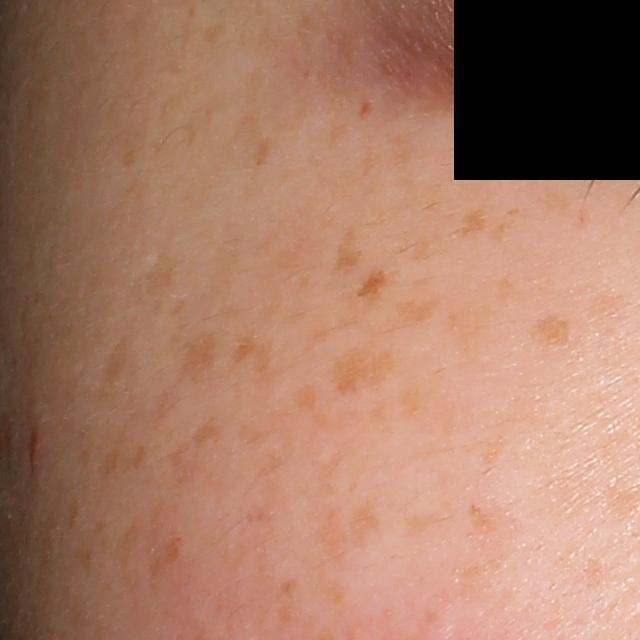melasma: (333, 349, 400, 393), (393, 290, 447, 330), (230, 331, 276, 377), (459, 501, 504, 546), (459, 201, 491, 241), (252, 134, 280, 173)
papule: (24, 420, 49, 476)
